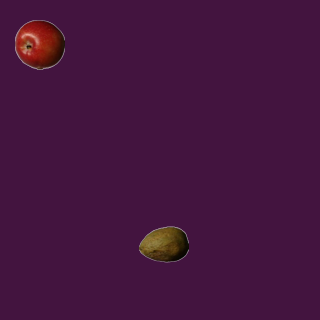Apple Braeburn: (14, 19, 64, 69)
Papaya: (138, 219, 188, 269)
